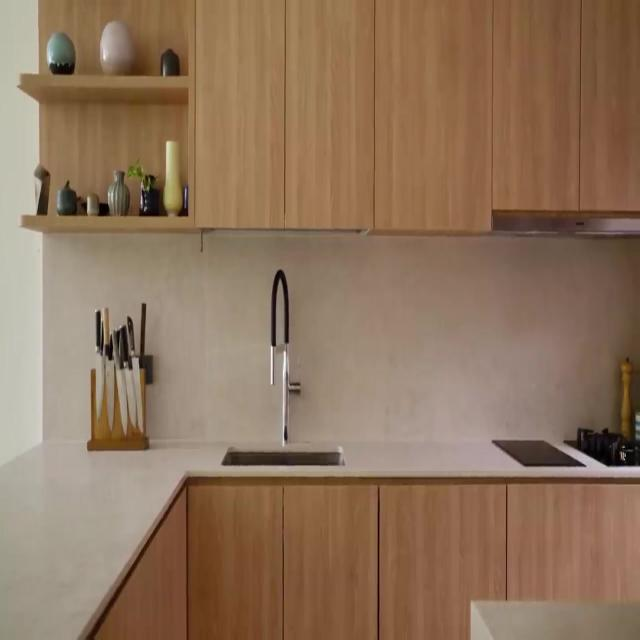obstacle: (17, 0, 196, 235), (492, 0, 640, 226), (506, 478, 640, 604), (470, 598, 640, 638)
